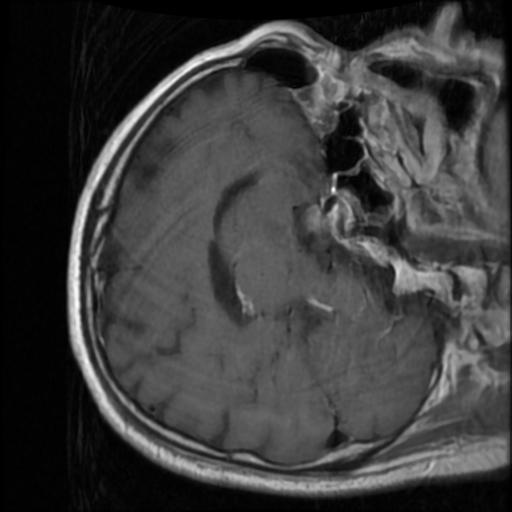pituitary tumour: (298, 206, 342, 248)
